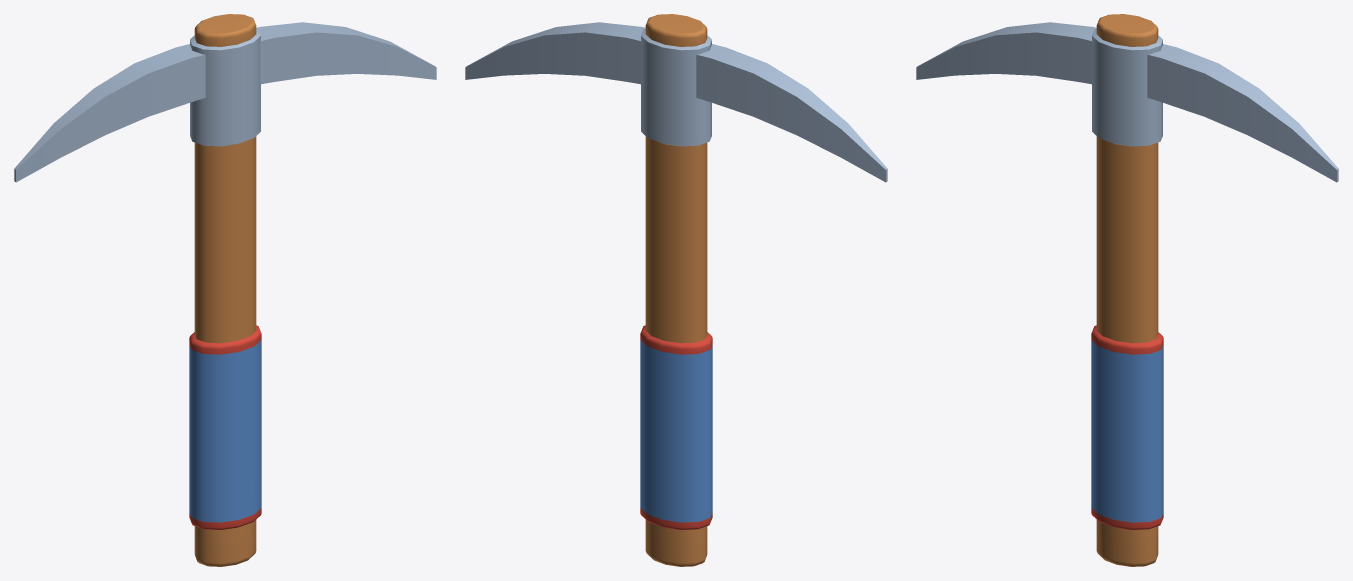
File: DickPickAxe.fbx
The picture shows the model from 3 angles, left to right: view 1: azimuth 30°, elevation 25°; view 2: azimuth 150°, elevation 25°; view 3: azimuth 330°, elevation 25°; orthographic projection.
Visible parts, largest first — view 1: Circle.001; view 2: Circle.001; view 3: Circle.001.
Boxes of the visible parts, x1,y1,x2,y2 form: Circle.001: [14, 14, 436, 566]; Circle.001: [465, 14, 887, 566]; Circle.001: [916, 14, 1338, 566].
Bounding box in the file's own units: 60.21 × 73.09 × 6.93.
